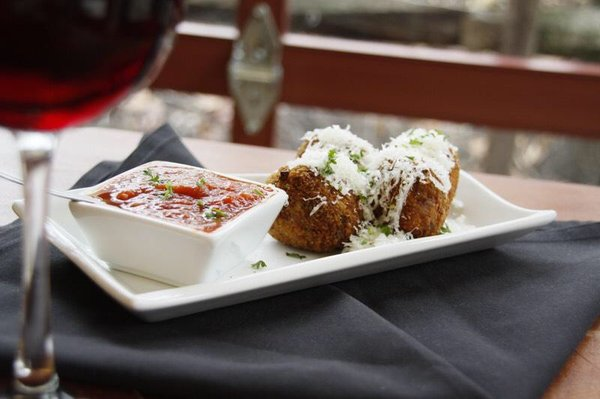sandwich: (62, 122, 205, 191)
